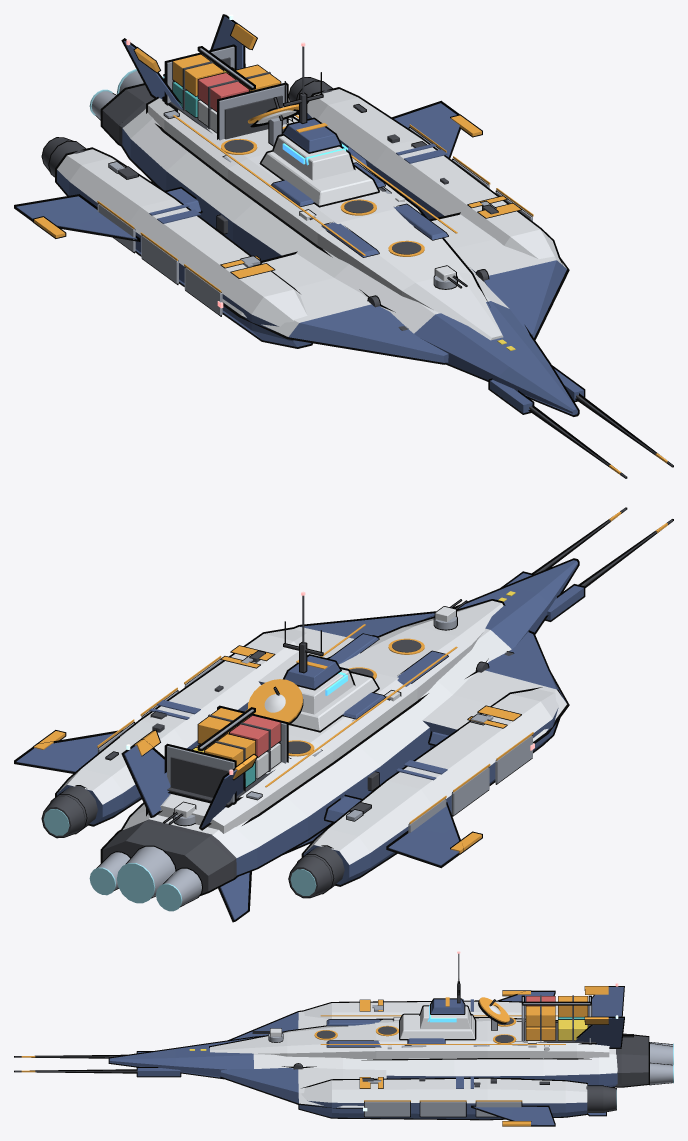
The model's file is Frigate_Explorer.fbx.
3 views of the same model, one above another, from view 1: azimuth 30°, elevation 25°; view 2: azimuth 150°, elevation 25°; view 3: azimuth 270°, elevation 25° (orthographic). The views are drawn at different scales.
Parts seen in each view (by area): view 1: Hull_Main, Hull_Deck, Pod_L, Pod_R, Shoulder_L, Shoulder_R, Bridge_Base, Wing_L, Wing_R, Bridge_Mid, Engine_Block, Rack_FrameHole0 (+12 smaller); view 2: Hull_Main, Pod_L, Hull_Deck, Pod_R, Shoulder_L, Engine_Block, Shoulder_R, Wing_L, Wing_R, Fin_Dorsal_R, Bridge_Base, Rack_FrameHole1 (+21 smaller); view 3: Hull_Main, Hull_Deck, Pod_R, Shoulder_R, Pod_L, Engine_Block, Bridge_Base, Wing_R, Fin_Dorsal_R, Shoulder_L, Fin_Dorsal_L, Pod_R_Hatch1 (+20 smaller).
Boxes of the visible parts, <box> form: Hull_Main: <box>119,109,579,416</box>; Hull_Deck: <box>146,97,503,340</box>; Pod_L: <box>55,147,312,348</box>; Pod_R: <box>307,87,562,264</box>; Shoulder_L: <box>222,251,448,364</box>; Shoulder_R: <box>429,212,569,339</box>; Bridge_Base: <box>259,150,379,207</box>; Wing_L: <box>14,194,140,241</box>; Wing_R: <box>392,100,463,158</box>; Bridge_Mid: <box>271,134,355,180</box>; Engine_Block: <box>100,78,164,148</box>; Rack_FrameHole0: <box>224,95,282,139</box>; Hull_Main: <box>119,558,579,876</box>; Pod_L: <box>301,687,562,886</box>; Hull_Deck: <box>146,599,505,833</box>; Pod_R: <box>55,626,307,826</box>; Shoulder_L: <box>422,630,569,748</box>; Engine_Block: <box>100,819,240,895</box>; Shoulder_R: <box>258,611,435,684</box>; Wing_L: <box>386,802,463,868</box>; Wing_R: <box>14,730,122,773</box>; Fin_Dorsal_R: <box>121,739,170,817</box>; Bridge_Base: <box>289,671,379,732</box>; Rack_FrameHole1: <box>170,756,228,797</box>; Hull_Main: <box>108,1035,619,1087</box>; Hull_Deck: <box>209,1017,609,1060</box>; Pod_R: <box>298,1077,587,1120</box>; Shoulder_R: <box>220,1066,386,1108</box>; Pod_L: <box>298,1000,557,1019</box>; Engine_Block: <box>612,1033,649,1087</box>; Bridge_Base: <box>399,1013,476,1040</box>; Wing_R: <box>471,1105,555,1126</box>; Fin_Dorsal_R: <box>574,1016,624,1048</box>; Shoulder_L: <box>228,1009,328,1040</box>; Fin_Dorsal_L: <box>588,986,624,1016</box>; Pod_R_Hatch1: <box>419,1101,466,1117</box>.
Size of the model in its own units: 28.4 by 14.89 by 59.2.
